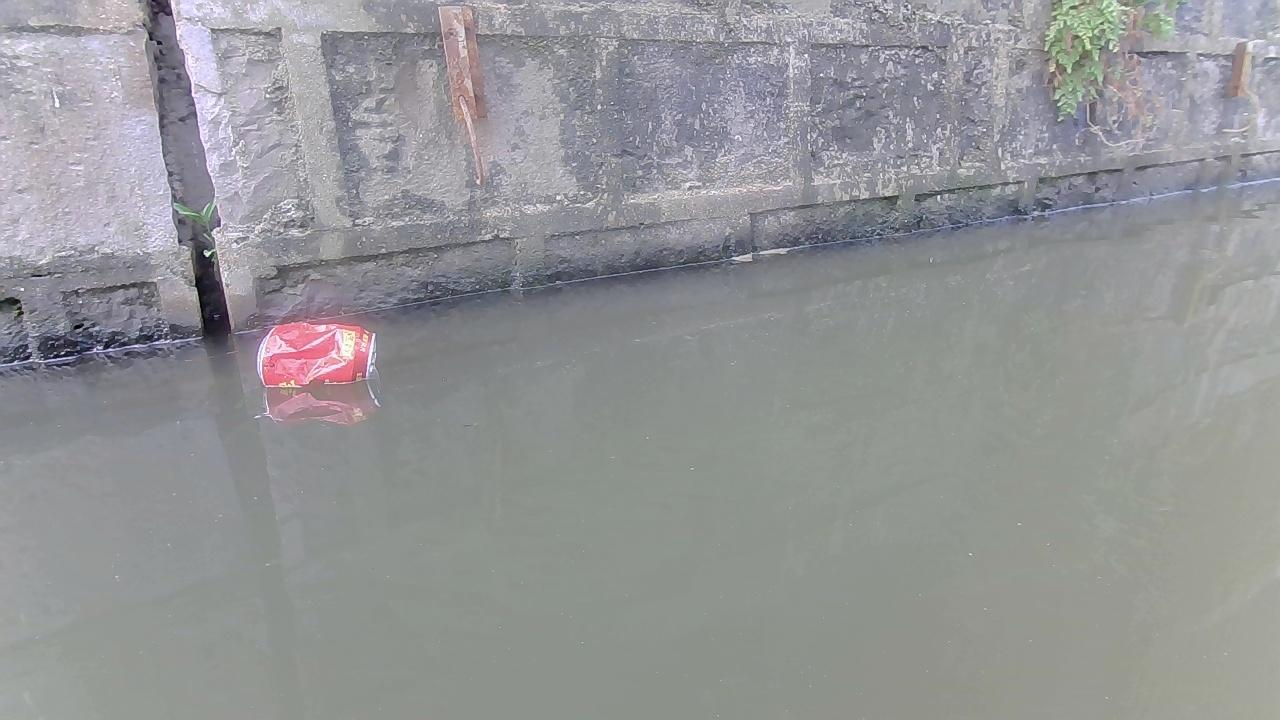Metal: (255, 321, 380, 391)
